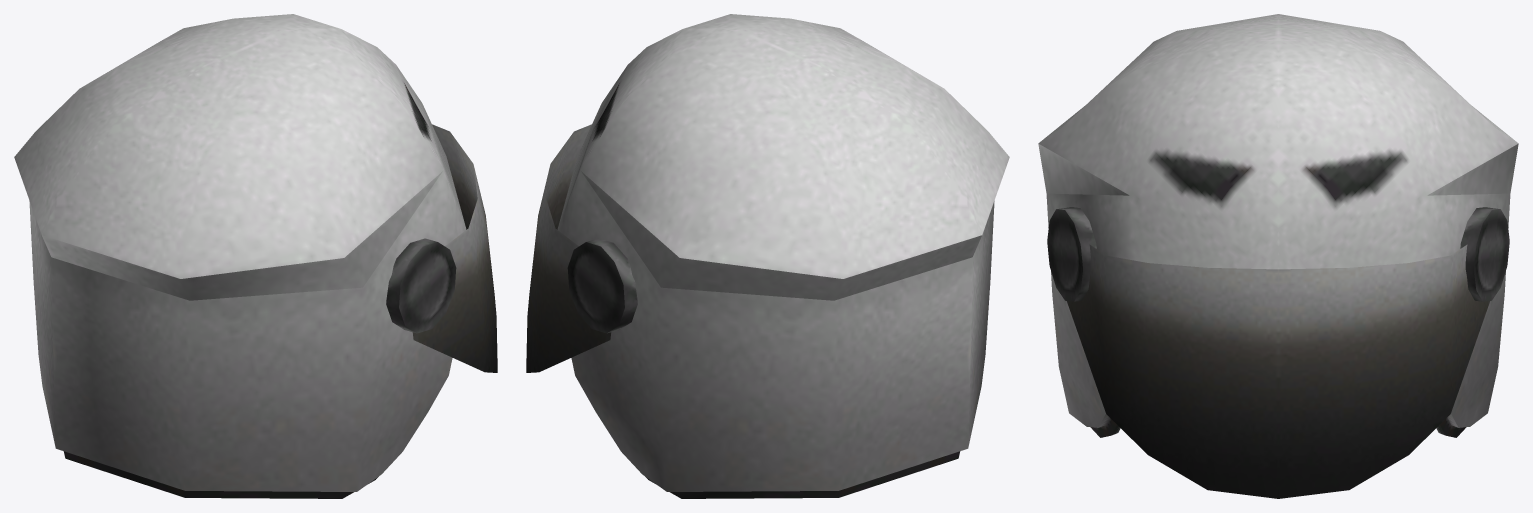
The model's file is clo_motorcycle_helmet 1.fbx.
3 views of the same model, side by side, from view 1: azimuth 30°, elevation 25°; view 2: azimuth 150°, elevation 25°; view 3: azimuth 270°, elevation 25° (orthographic).
Parts seen in each view (by area): view 1: MotorcycleHelmet4; view 2: MotorcycleHelmet4; view 3: MotorcycleHelmet4.
Part boxes in pixels (bbox=[...]): MotorcycleHelmet4: bbox=[14, 14, 497, 498]; MotorcycleHelmet4: bbox=[526, 14, 1009, 498]; MotorcycleHelmet4: bbox=[1038, 14, 1518, 498].
Size of the model in its own units: 25.65 by 22.04 by 24.25.
